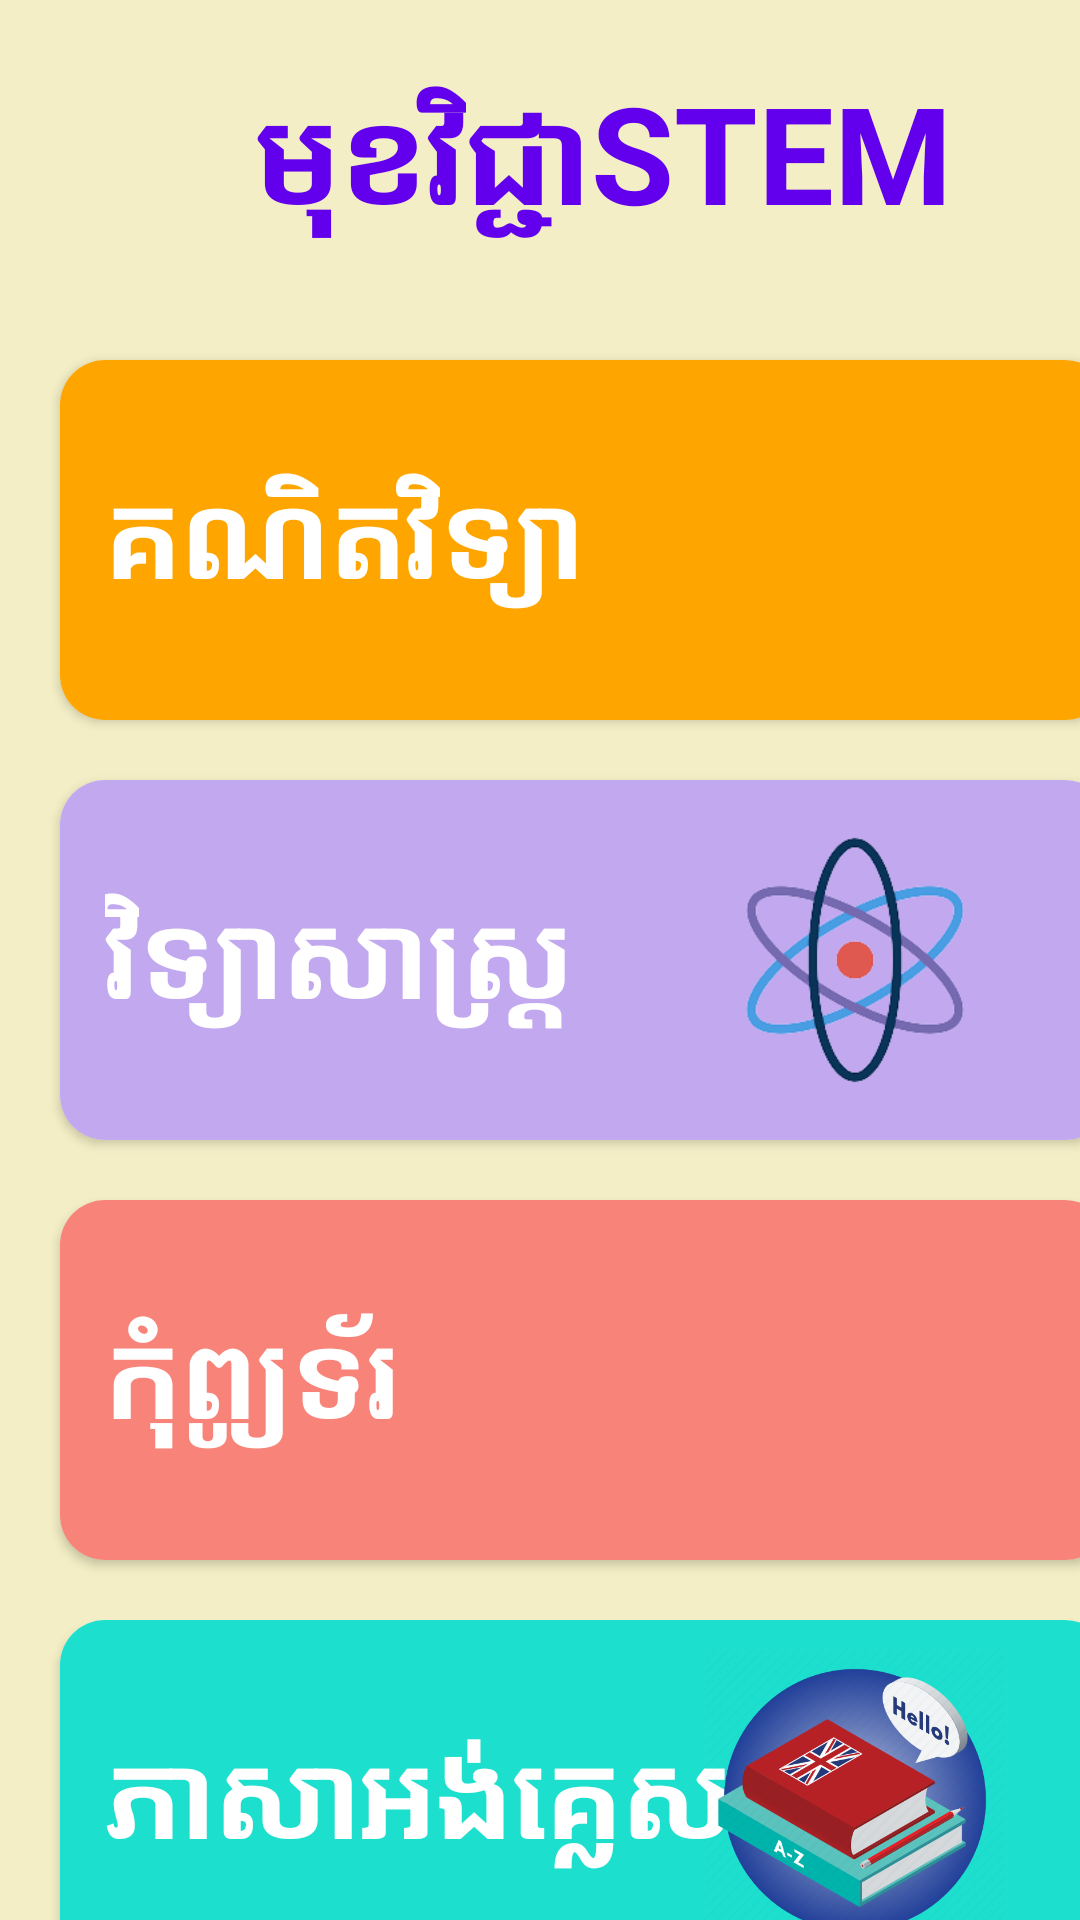

Named icons in this screenshot (1080*1920) and their bounding boxes, (x1, y1, x2, y2):
sciencebg: (746, 838, 963, 1082)
